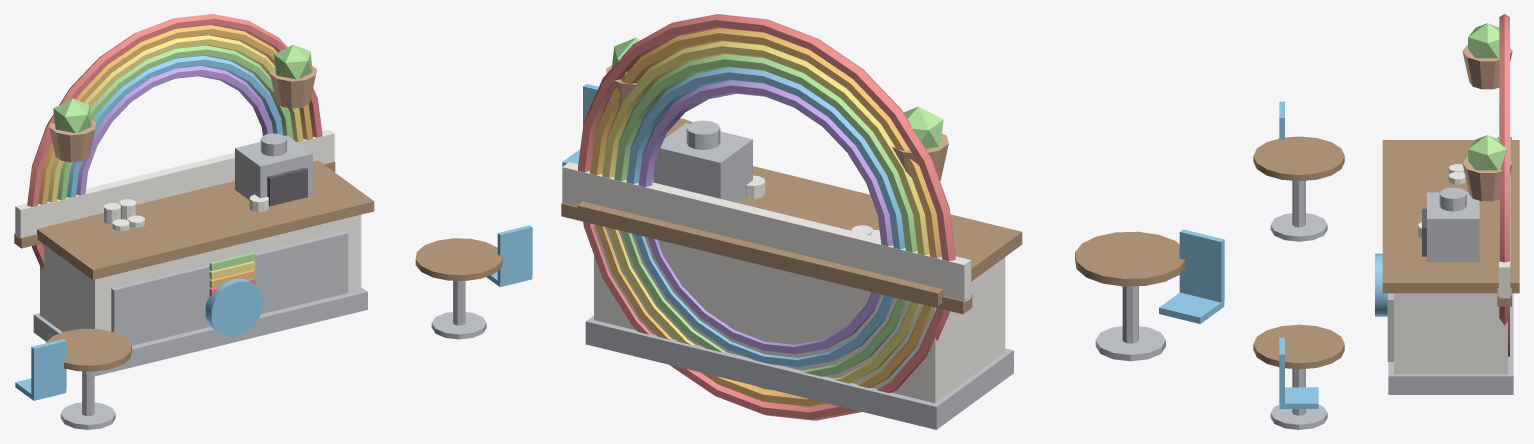
Rendered from stall_rainbow.glb.
3 views of the same model, side by side, from view 1: azimuth 30°, elevation 25°; view 2: azimuth 150°, elevation 25°; view 3: azimuth 270°, elevation 25° (orthographic). The views are drawn at different scales.
Visible parts, largest first — view 1: stall_rainbow; view 2: stall_rainbow; view 3: stall_rainbow.
Boxes of the visible parts, <box> form: stall_rainbow: <box>14,14,532,429</box>; stall_rainbow: <box>561,14,1224,429</box>; stall_rainbow: <box>1253,14,1519,429</box>.
Bounding box in the file's own units: 5.24 × 3.11 × 2.33.
